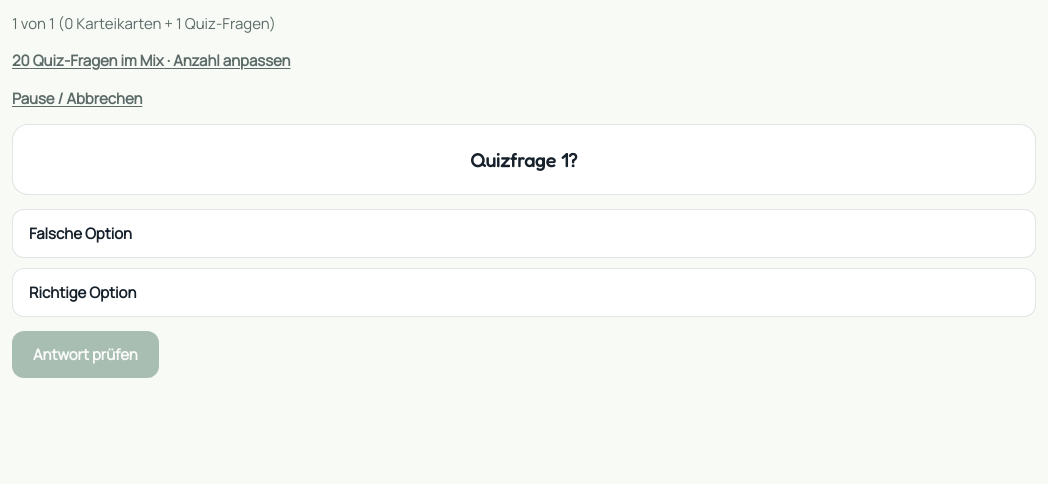
MixedLearning (F-104, Beides gemischt) › wertet eine Quizantwort aus, zeigt die Rückmeldung und schickt Auswahl und Schlüssel an den Server
Click the button "Richtige Option": x=83, y=293 12,268 -> 1036,317
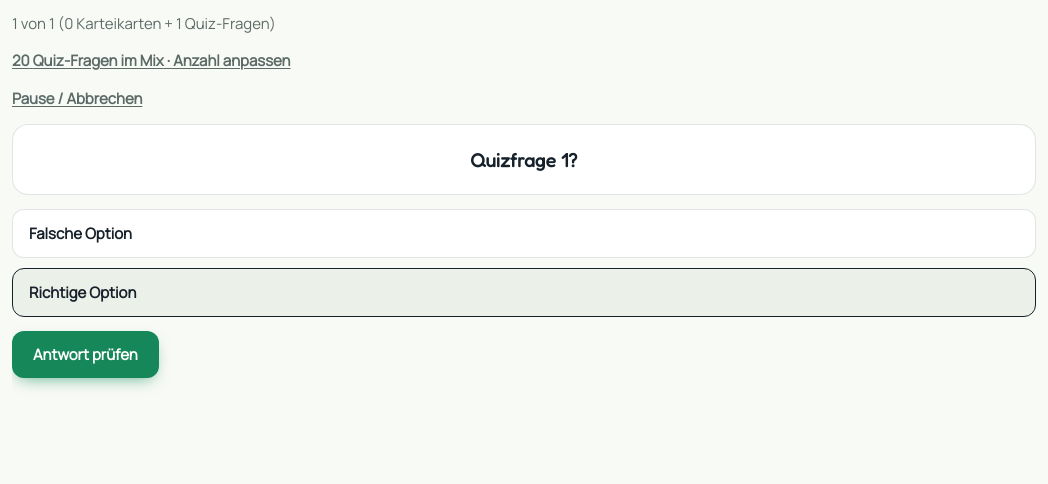
Click the button "Antwort prüfen": x=85, y=355 12,331 -> 159,378
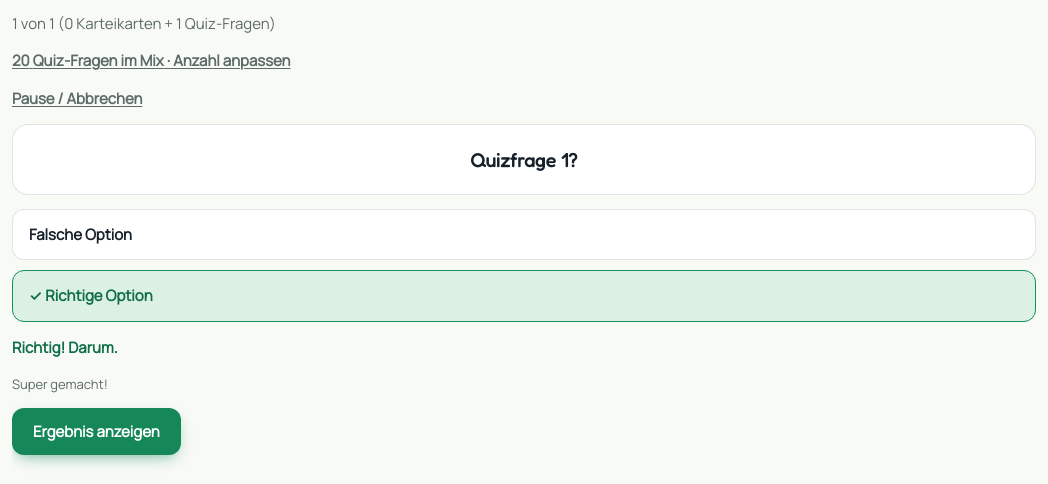
Expected: the text "Richtig! Darum." is shown, 12,337 -> 118,358
